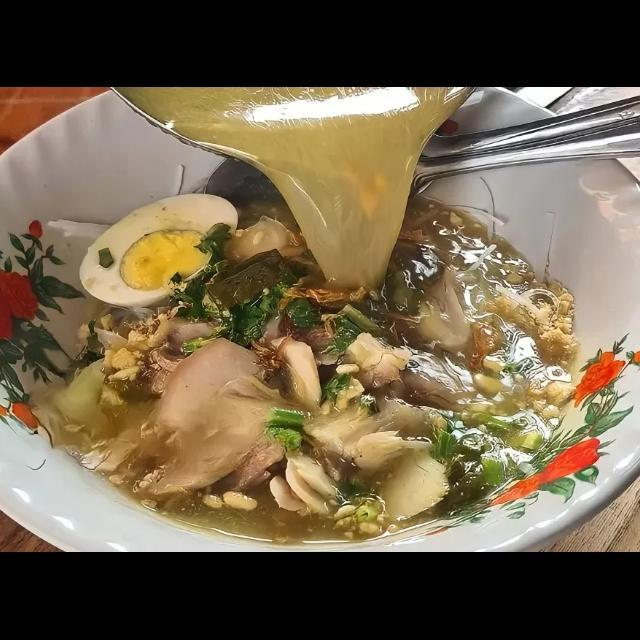Soto: (102, 109, 571, 546)
